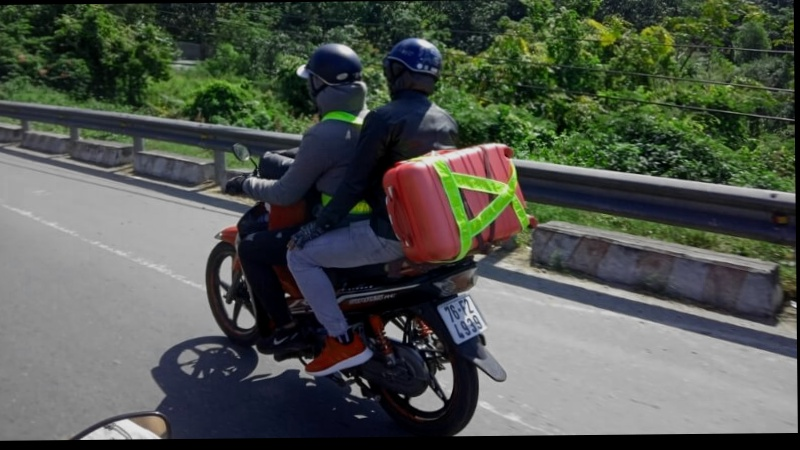Bien-so: (430, 309, 481, 369)
